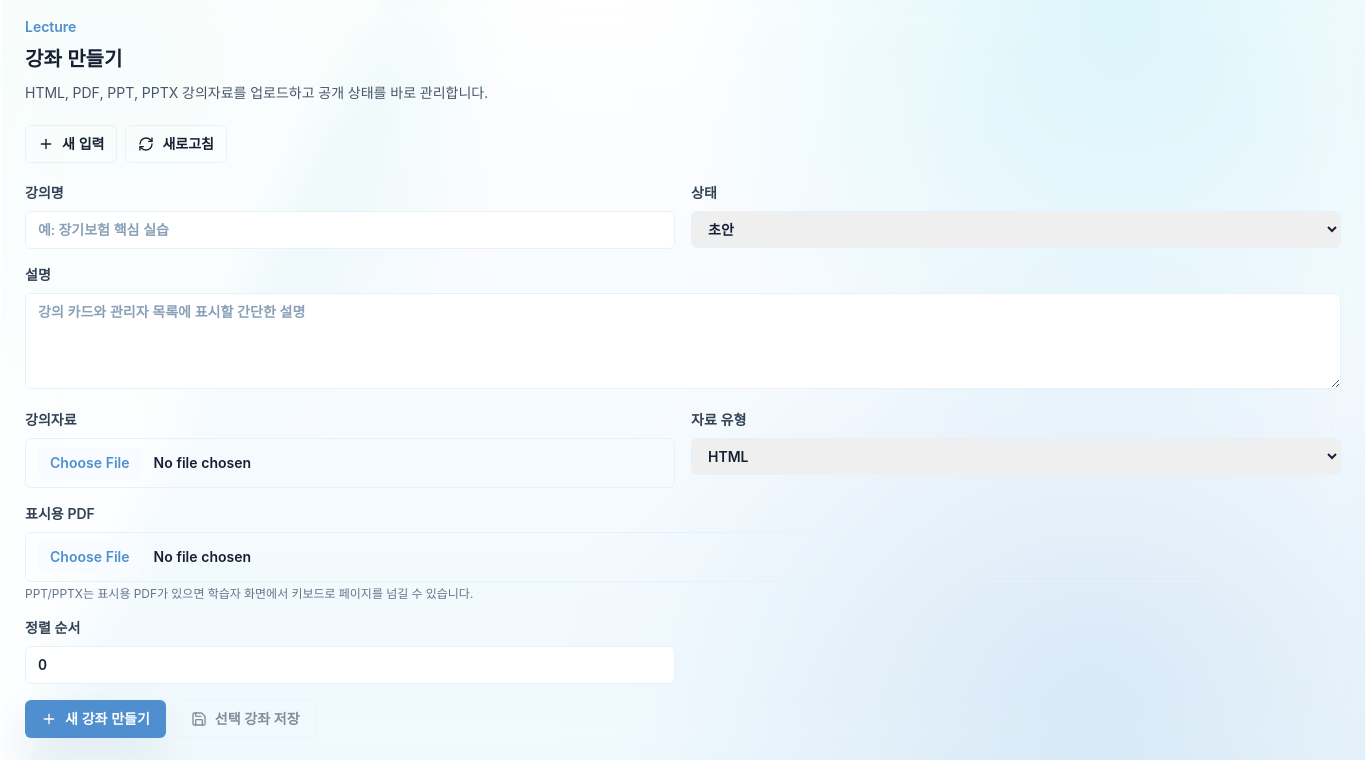
Test: LectureEditor › creates a lecture from the admin form
The width and height of the screenshot is (1366, 760).
In the field labelled "강의명": (350,230) [25,211,675,249], type "AI 실습 과정"
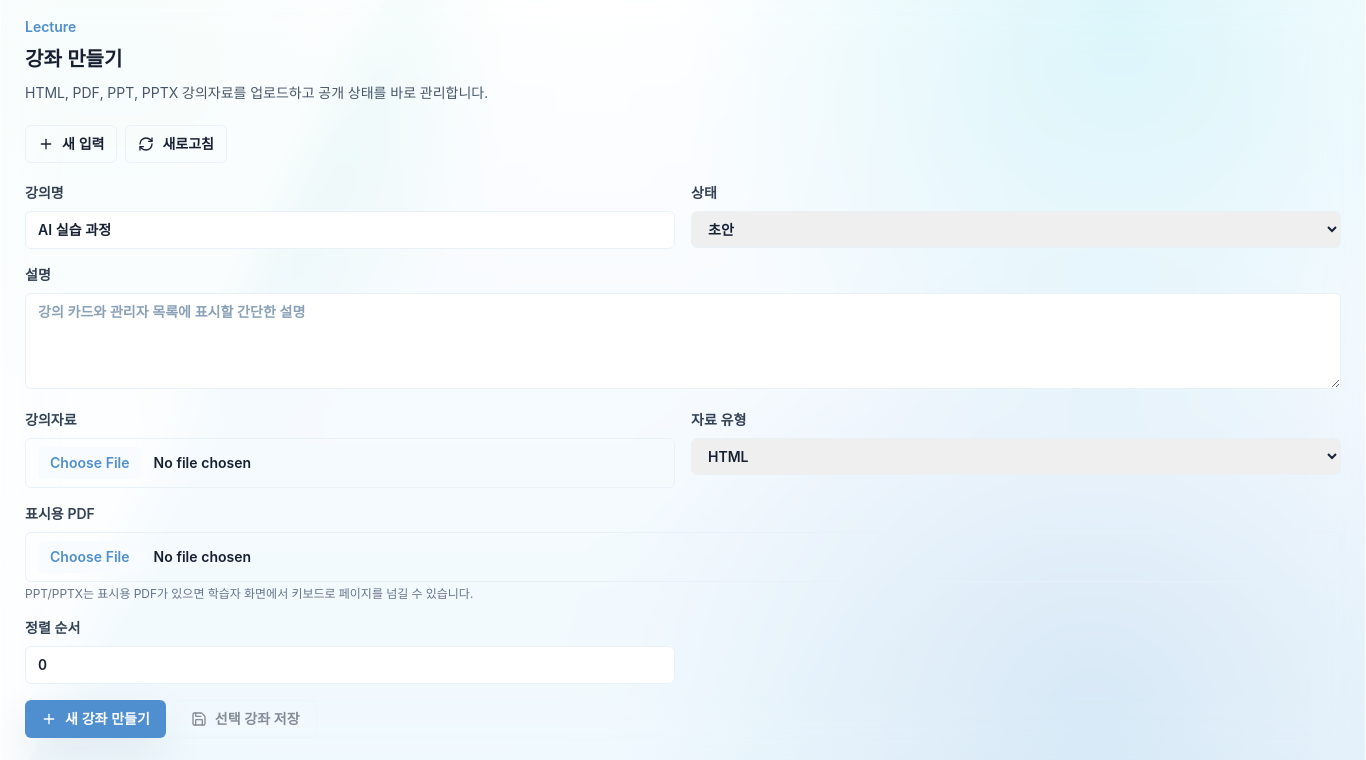
In the text box labelled "설명": (683,341) [25,293,1341,389], type "실습용 강좌"
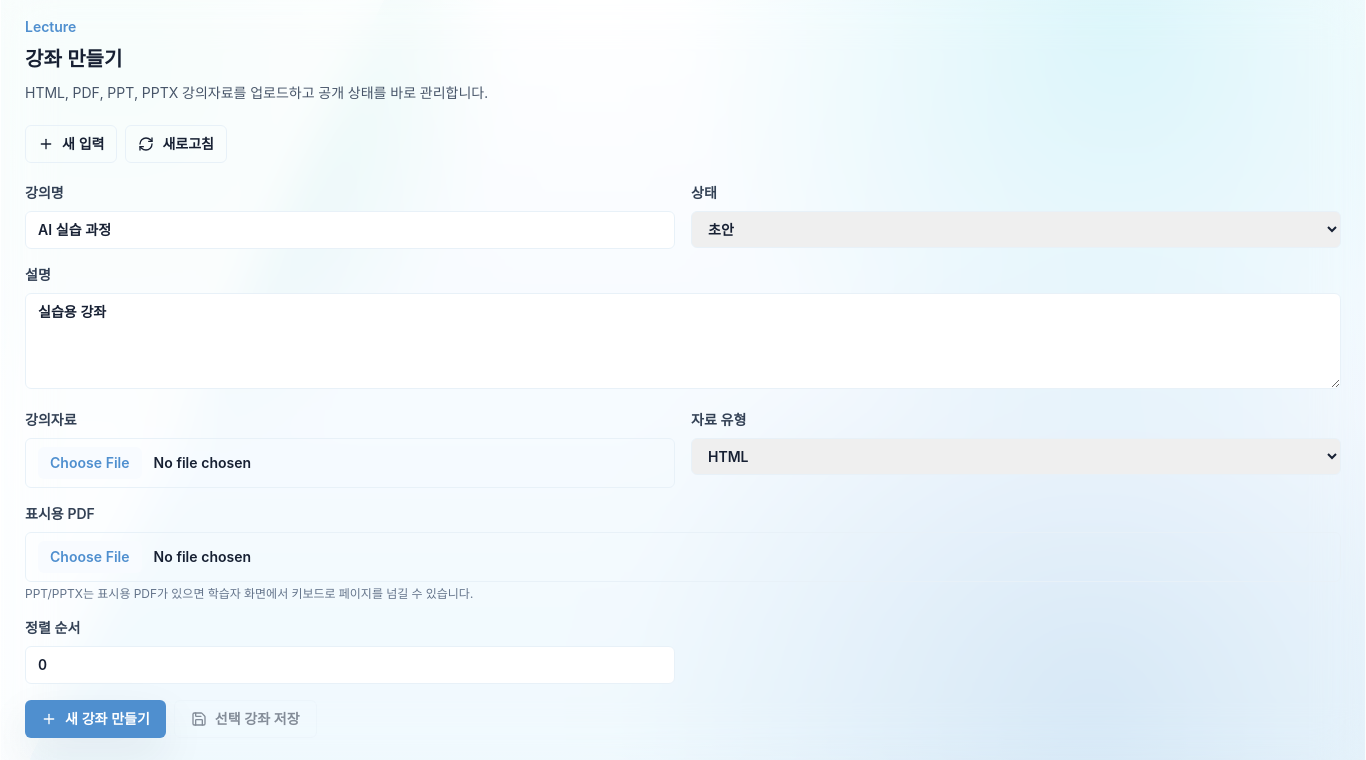
Click the button "새 강좌 만들기": (95,719) [25,700,166,738]
(page scrolled)
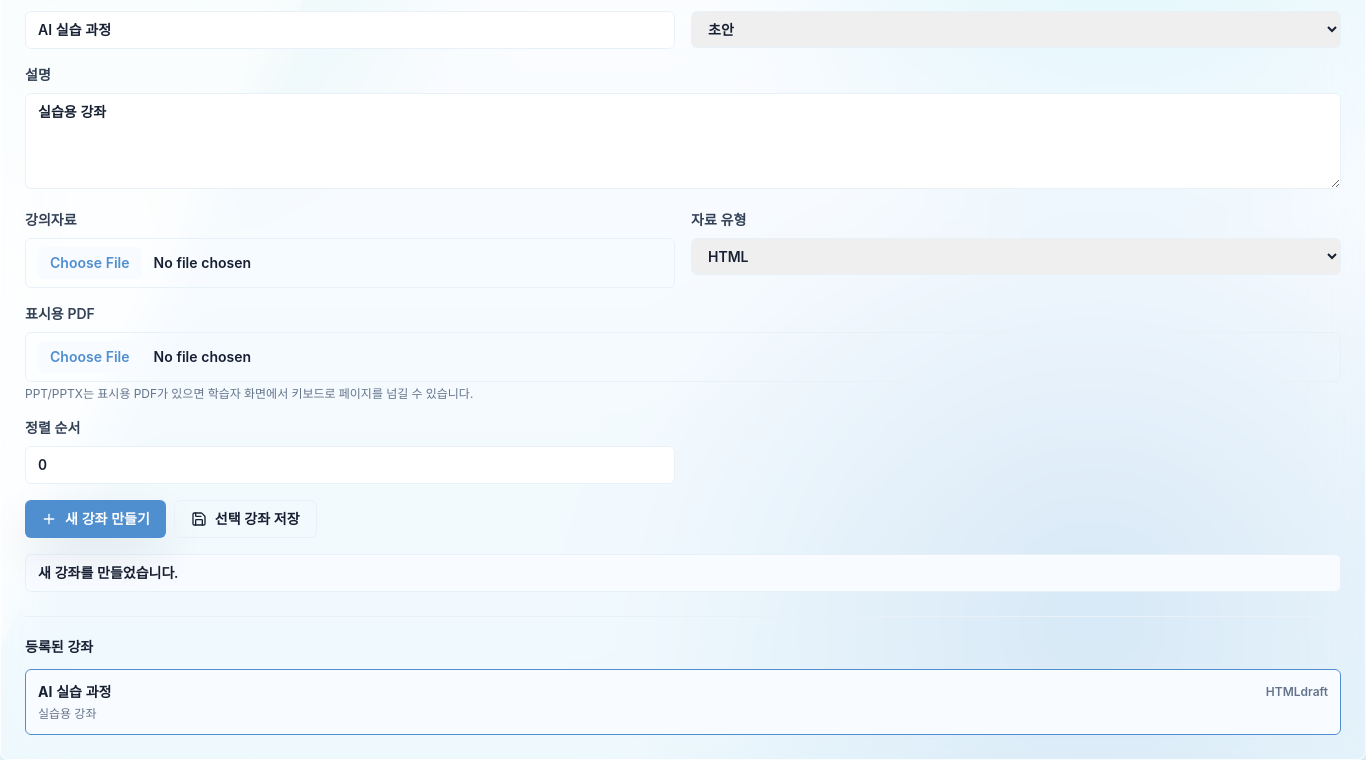
Check: the text "AI 실습 과정" is shown, box [38,682,111,702]
